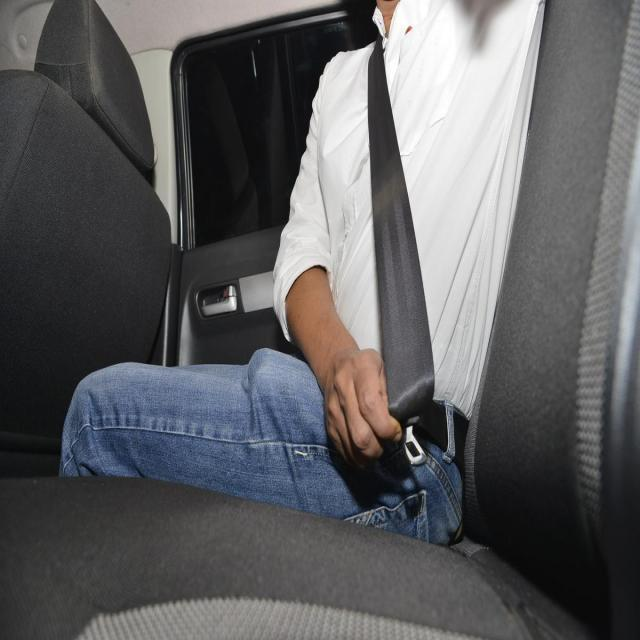seatbelt: (348, 33, 462, 470)
